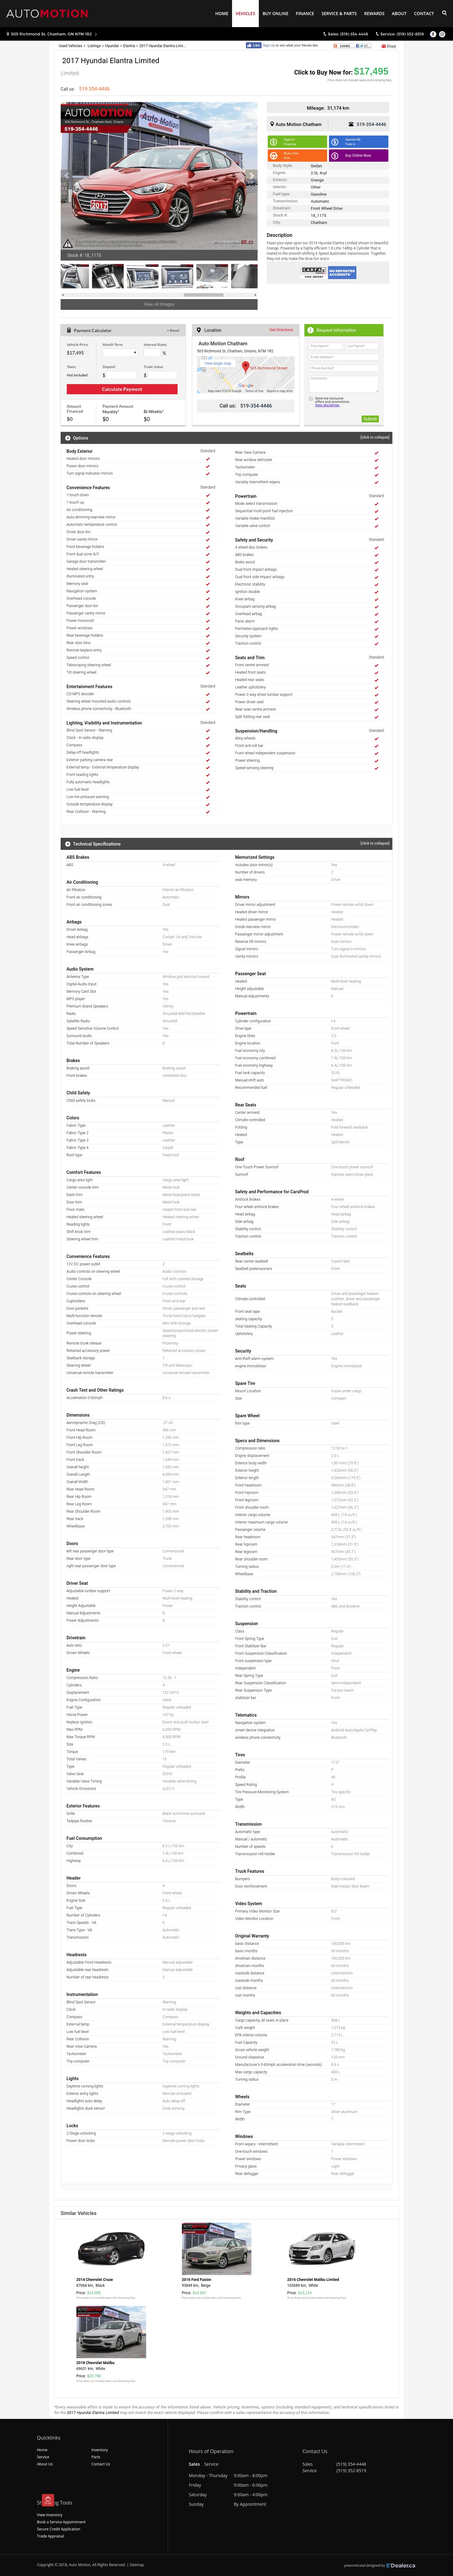car: (245, 169, 259, 182)
